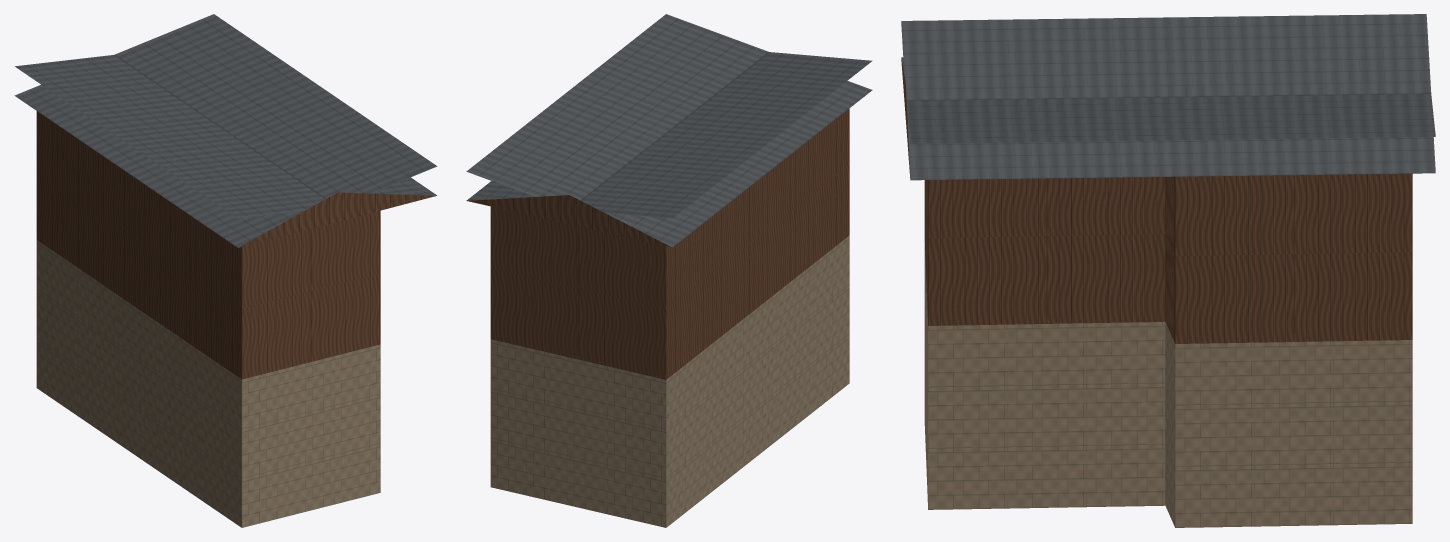
The model's file is bld_c-19_-7_694.gltf.
3 renders of one model, left to right at view 1: azimuth 30°, elevation 25°; view 2: azimuth 150°, elevation 25°; view 3: azimuth 270°, elevation 25°, orthographic. The views are drawn at different scales.
Parts seen in each view (by area): view 1: bld_c-19_-7_694; view 2: bld_c-19_-7_694; view 3: bld_c-19_-7_694.
Boxes of the visible parts, left/top/right/bottom form: bld_c-19_-7_694: left=14, top=14, right=437, bottom=527; bld_c-19_-7_694: left=466, top=14, right=872, bottom=527; bld_c-19_-7_694: left=901, top=14, right=1435, bottom=527.
Bounding box in the file's own units: 7.67 × 10.9 × 13.34.
Materials: 4 (4 with a texture image).
